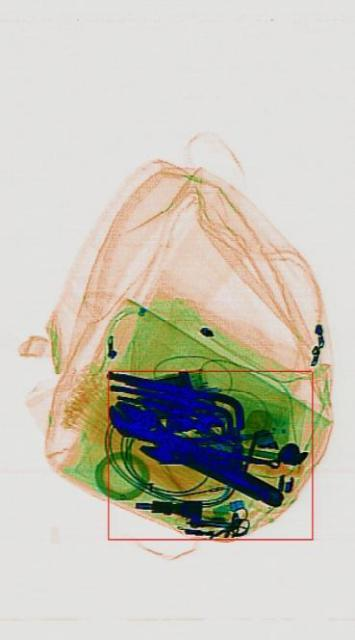Wrench: (103, 384, 286, 518)
